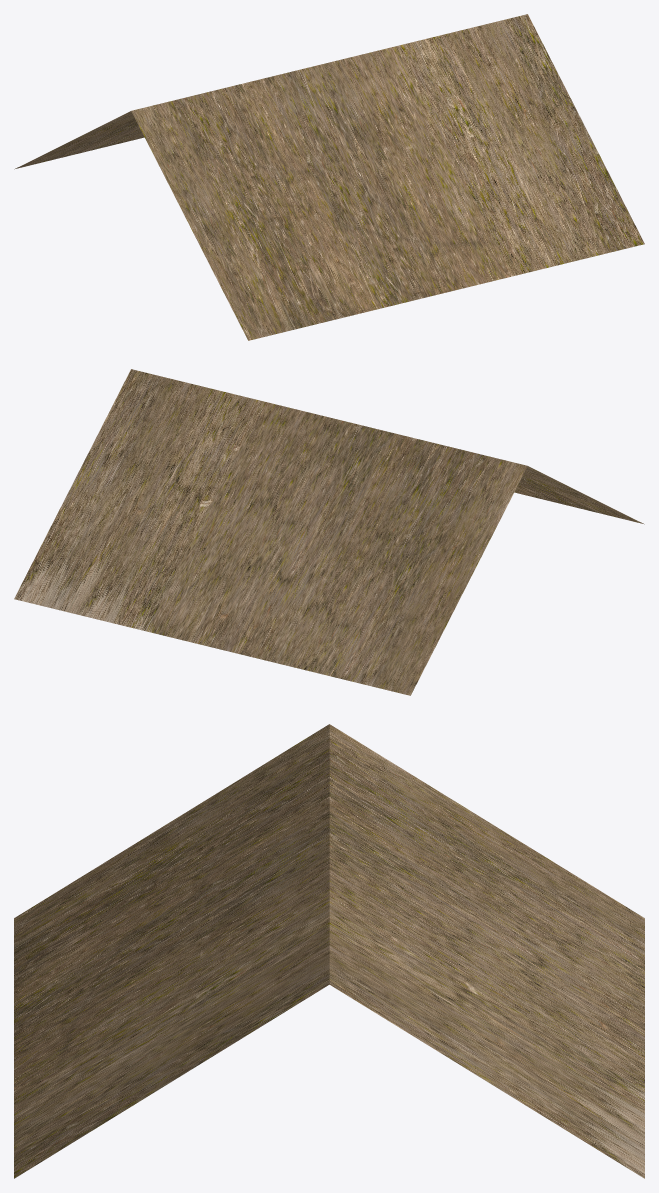
File: well1.fbx
3 views of the same model, one above another, from view 1: azimuth 30°, elevation 25°; view 2: azimuth 150°, elevation 25°; view 3: azimuth 270°, elevation 25° (orthographic). The views are drawn at different scales.
Parts seen in each view (by area): view 1: Plane; view 2: Plane; view 3: Plane.
Boxes of the visible parts, x1,y1,x2,y2 form: Plane: (14, 14, 644, 340); Plane: (14, 369, 644, 695); Plane: (14, 724, 644, 1178).
Bounding box in the file's own units: 1165 × 405 × 1192.
1 material, 1 textured.
